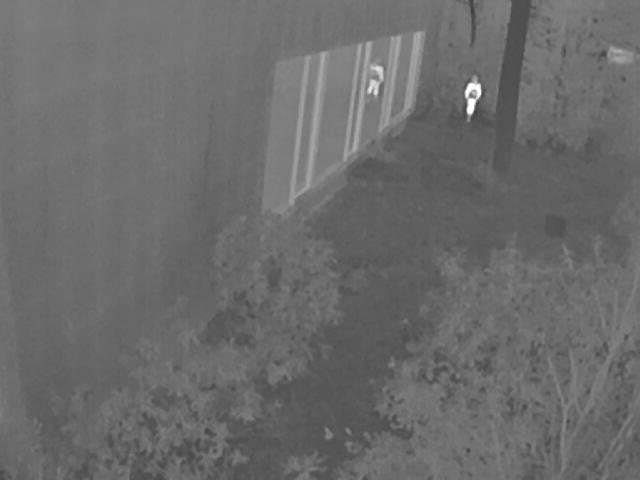person: (466, 72, 484, 122), (368, 57, 386, 96)
